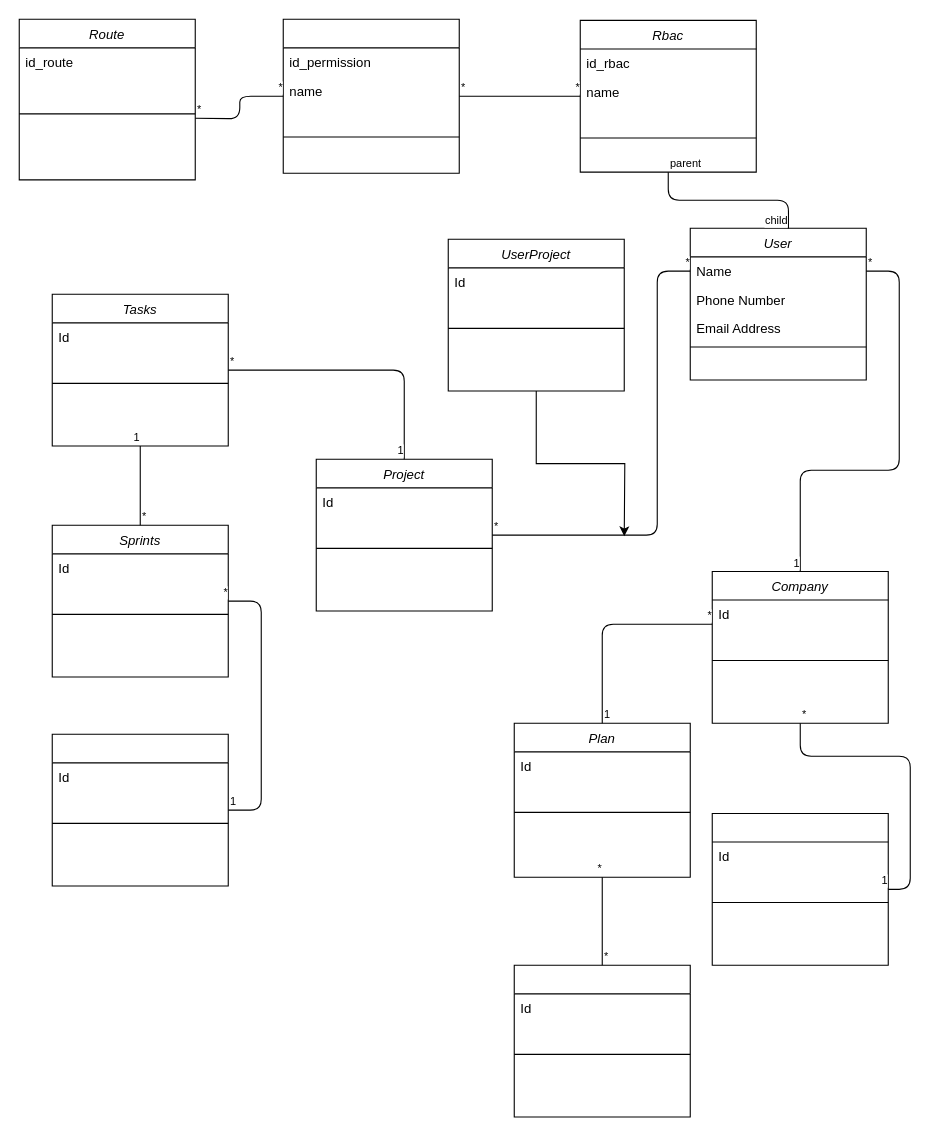
Image size: 931x1136. Some labels were removed from this diagram. Here are the shapes that lost their labels. From the top down, the box of each, then its label:
(282, 18, 459, 173): Permissions
(51, 733, 228, 886): Trackings
(711, 812, 888, 965): Settings
(513, 964, 690, 1117): Rules
